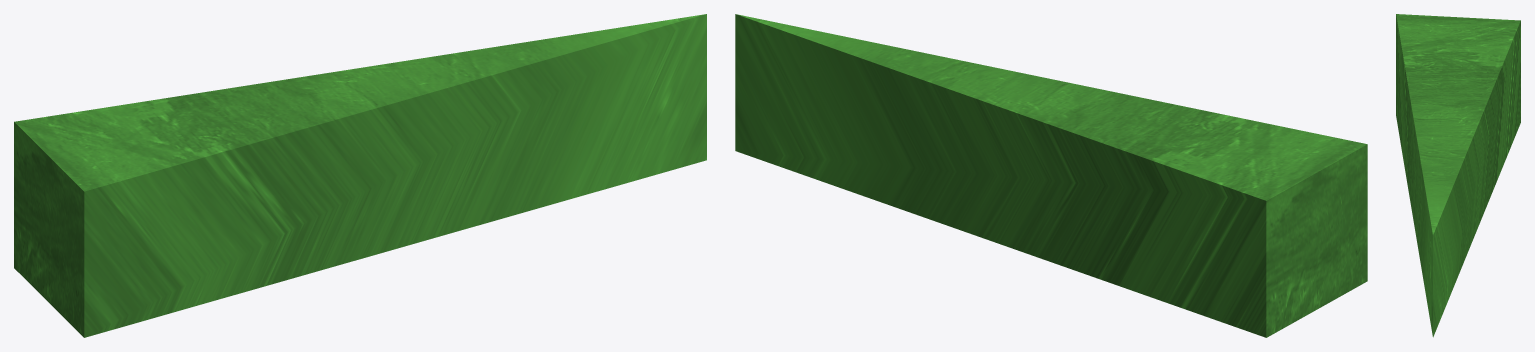
3 renders of one model, left to right at view 1: azimuth 30°, elevation 25°; view 2: azimuth 150°, elevation 25°; view 3: azimuth 270°, elevation 25°, orthographic. The views are drawn at different scales.
Visible parts, largest first — view 1: Ligne017; view 2: Ligne017; view 3: Ligne017.
Boxes of the visible parts, x1,y1,x2,y2 form: Ligne017: (14, 14, 706, 337); Ligne017: (735, 14, 1367, 337); Ligne017: (1396, 14, 1520, 337).
Bounding box in the file's own units: 13.48 × 2.9 × 3.21.
Materials: 1 (1 with a texture image).
